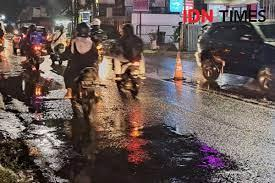Pothole: (0, 128, 51, 183)
